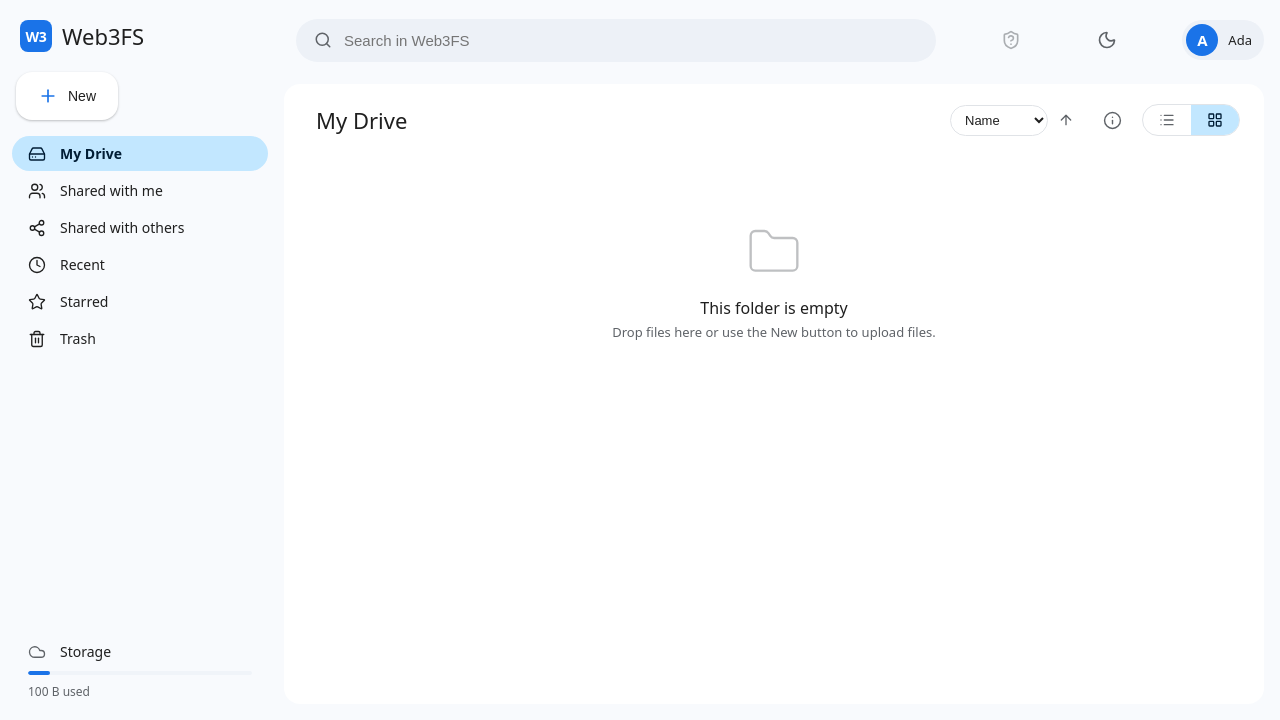
Test case: right-clicking the empty background opens the New/upload menu
// the empty-state sits inside the content area that owns the context menu
Right-click the text "This folder is empty" at [774, 308], box [700,297,848,319]
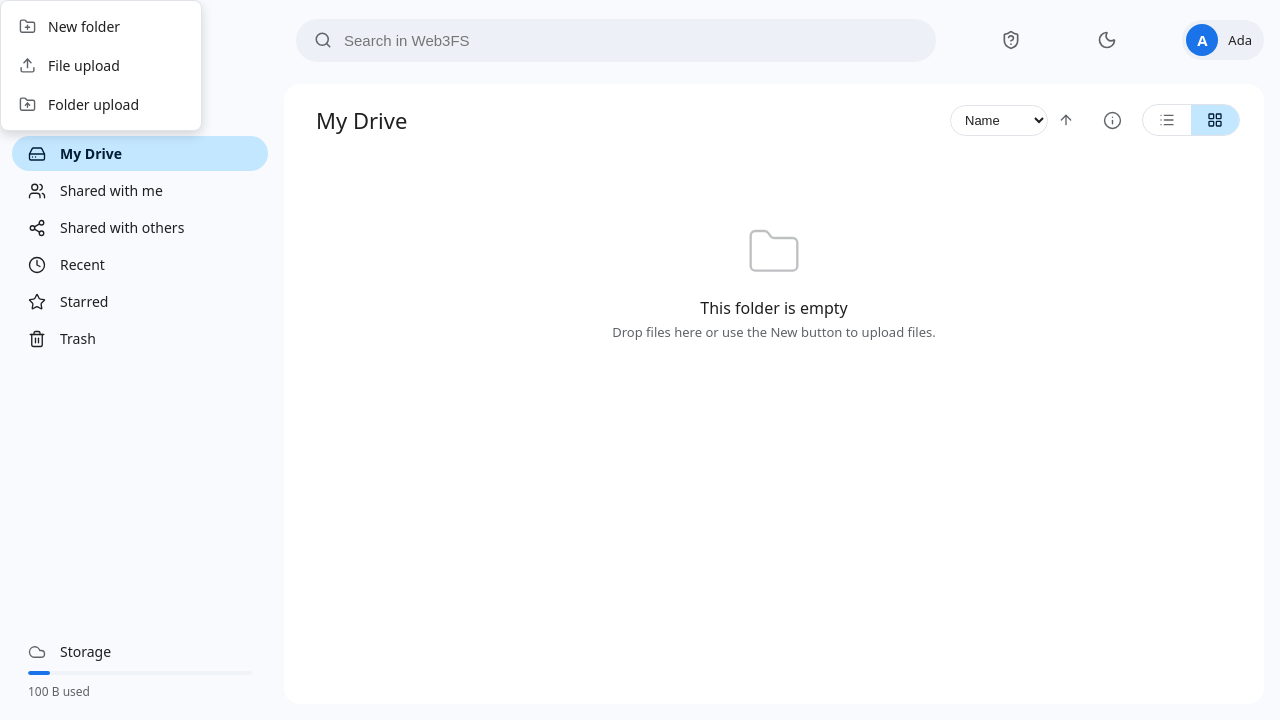
Expected: the text "New folder" is shown, [19,17,120,36]
